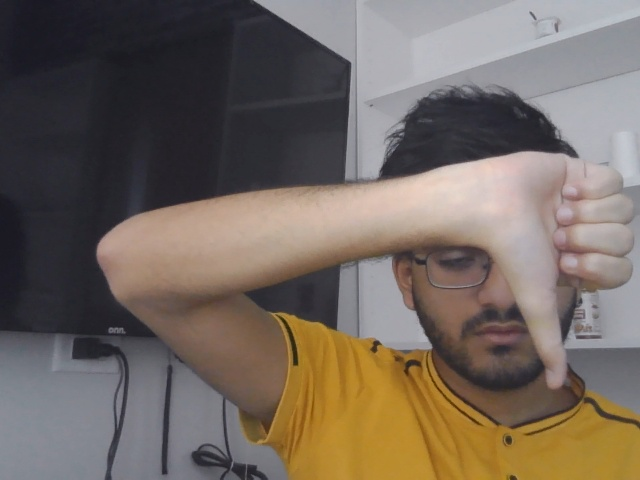ThumbsDown: (476, 151, 635, 389)
